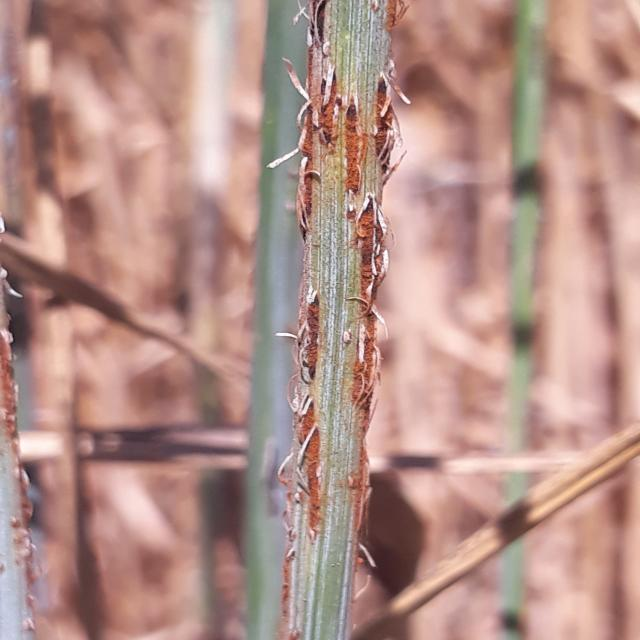black_stem_rust: (248, 0, 461, 640), (0, 221, 47, 640)
